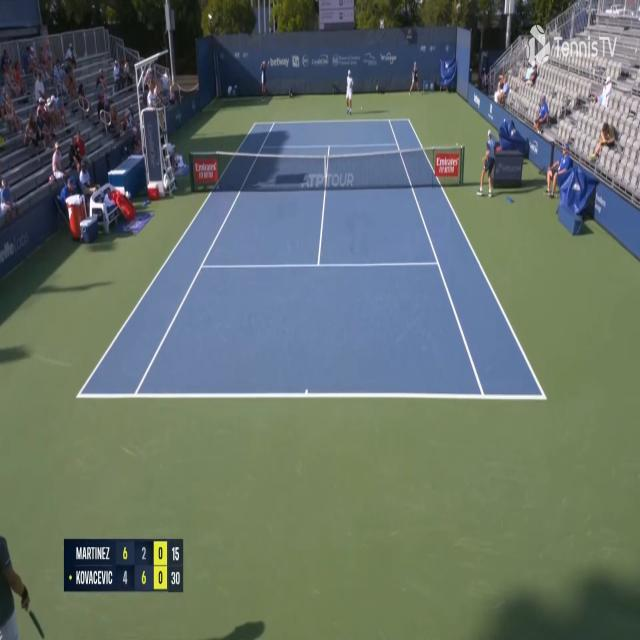tennis-player: (344, 68, 355, 115)
